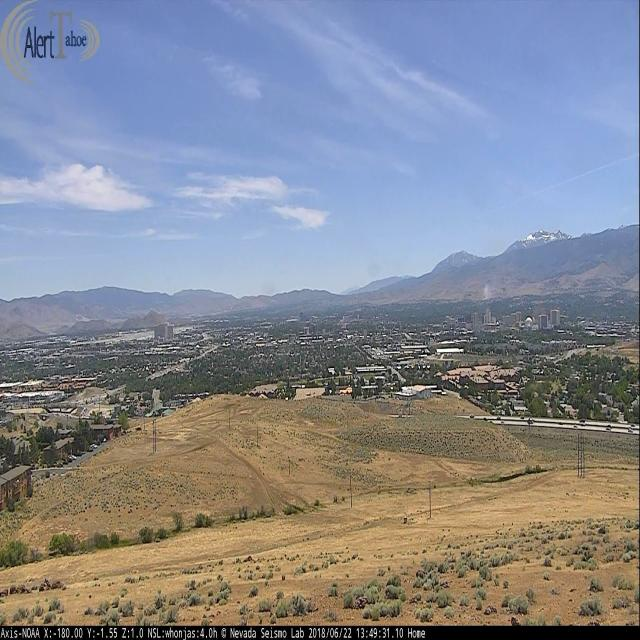smoke: (482, 283, 489, 300)
